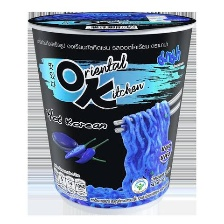paper_cup: (27, 11, 196, 216)
